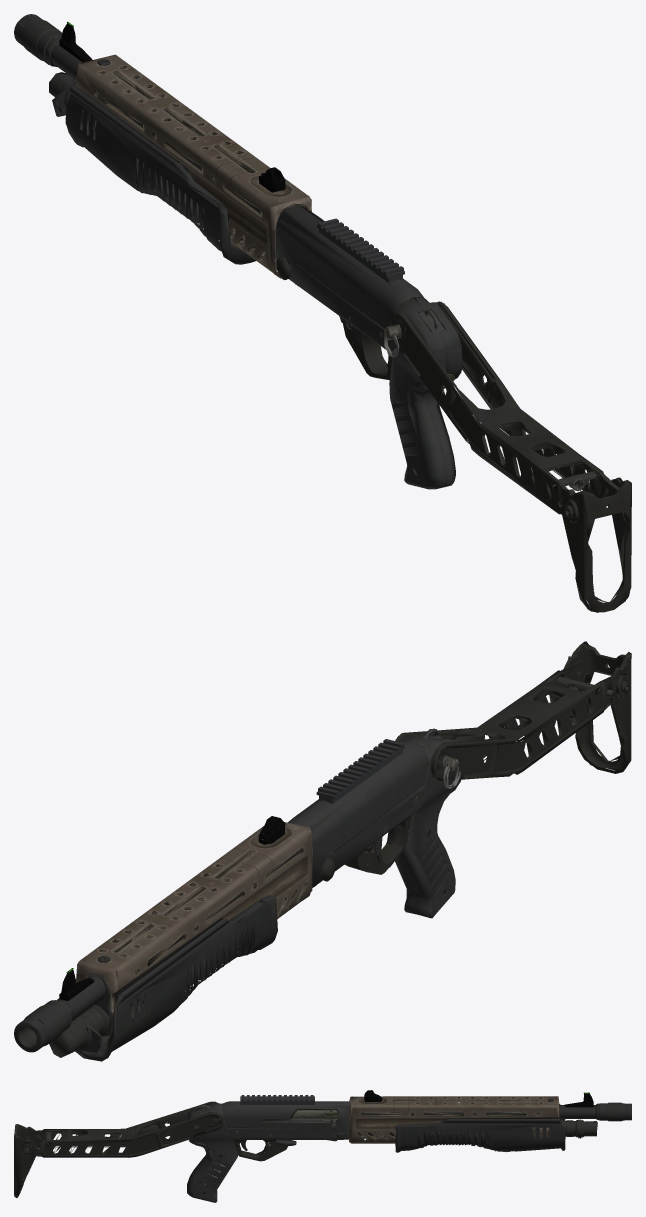
The model's file is spas12-world.glb.
The picture shows the model from 3 angles, top to bottom: view 1: azimuth 30°, elevation 25°; view 2: azimuth 150°, elevation 25°; view 3: azimuth 270°, elevation 25°; orthographic projection. The views are drawn at different scales.
Parts seen in each view (by area): view 1: GunGeometry, PumpGeometry, OpticMountGeometry; view 2: GunGeometry, PumpGeometry, OpticMountGeometry; view 3: GunGeometry, PumpGeometry, OpticMountGeometry, BoltGeometry.
Part boxes in pixels (left/top/right/bottom): GunGeometry: left=14, top=14, right=631, bottom=612; PumpGeometry: left=65, top=86, right=255, bottom=264; OpticMountGeometry: left=316, top=218, right=404, bottom=282; GunGeometry: left=14, top=641, right=631, bottom=1057; PumpGeometry: left=75, top=895, right=277, bottom=1061; OpticMountGeometry: left=316, top=739, right=404, bottom=803; GunGeometry: left=14, top=1090, right=631, bottom=1202; PumpGeometry: left=395, top=1118, right=565, bottom=1152; OpticMountGeometry: left=240, top=1095, right=314, bottom=1104; BoltGeometry: left=290, top=1110, right=338, bottom=1128.
Size of the model in its own units: 0.1725 by 0.4514 by 2.32.
Materials: 10 (9 with a texture image).
